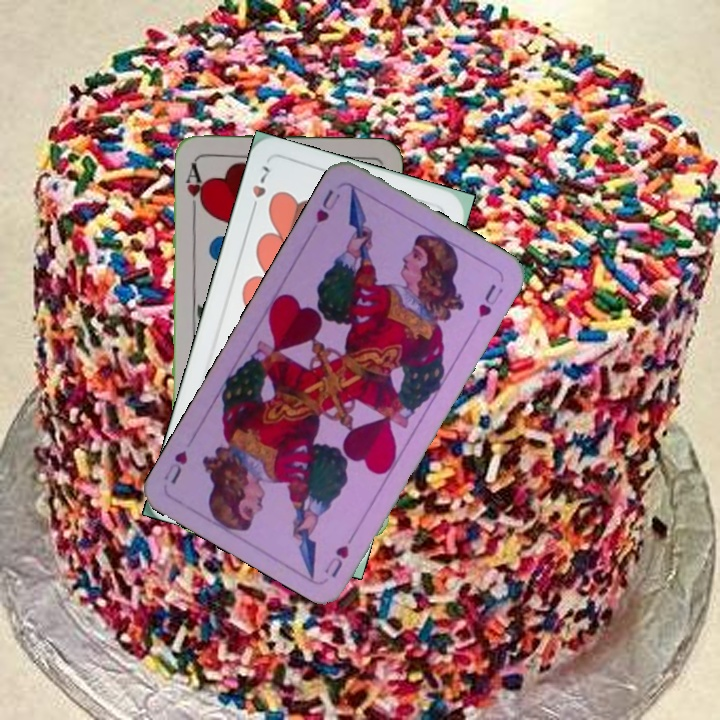H7: (246, 161, 273, 217)
HA: (182, 159, 208, 217)
HU: (320, 527, 359, 580), (311, 185, 344, 226)
